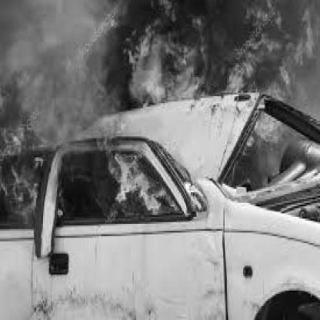Fire: (111, 0, 318, 102)
